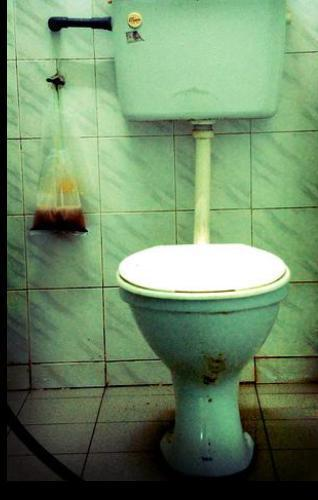Sanitario: (96, 0, 294, 465)
